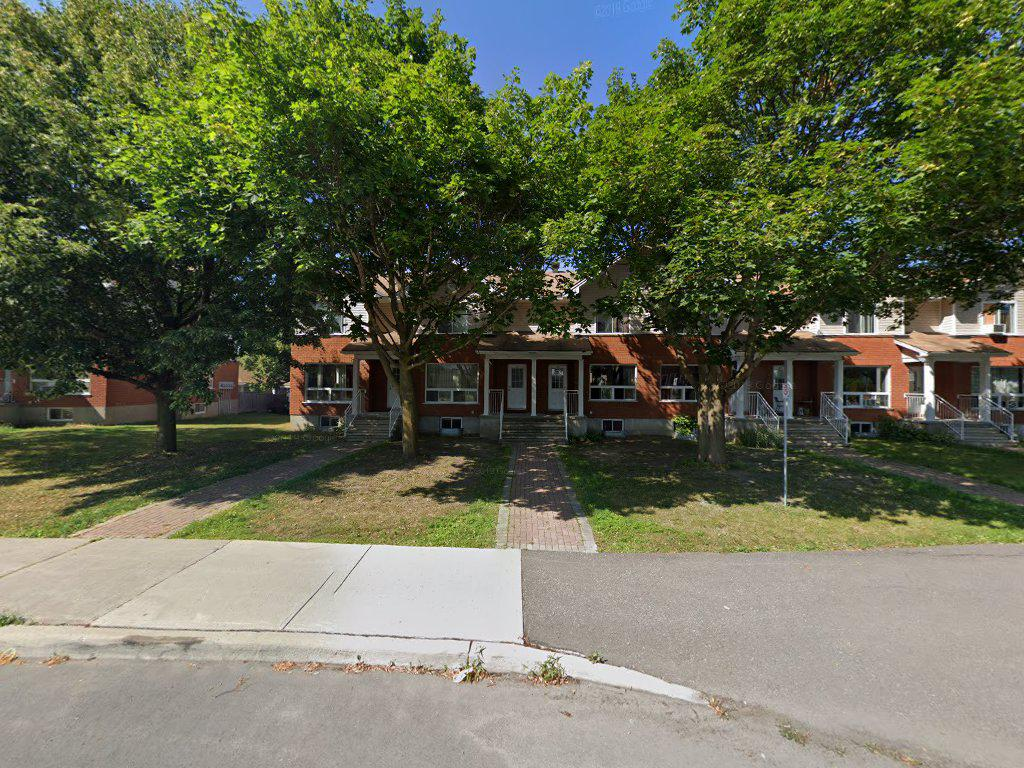trunk: (689, 335, 734, 493), (385, 331, 426, 482), (144, 347, 185, 466)
